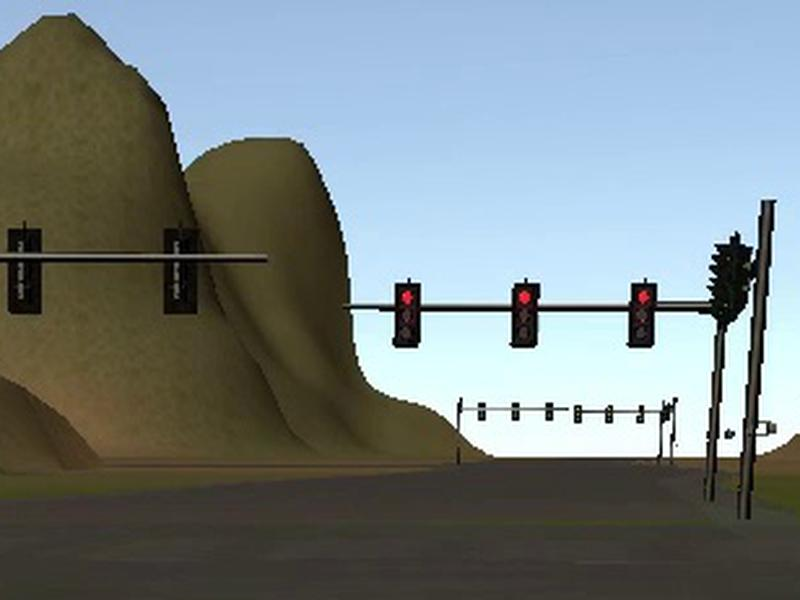Red: (510, 281, 540, 349), (625, 282, 656, 347), (394, 282, 422, 348)
